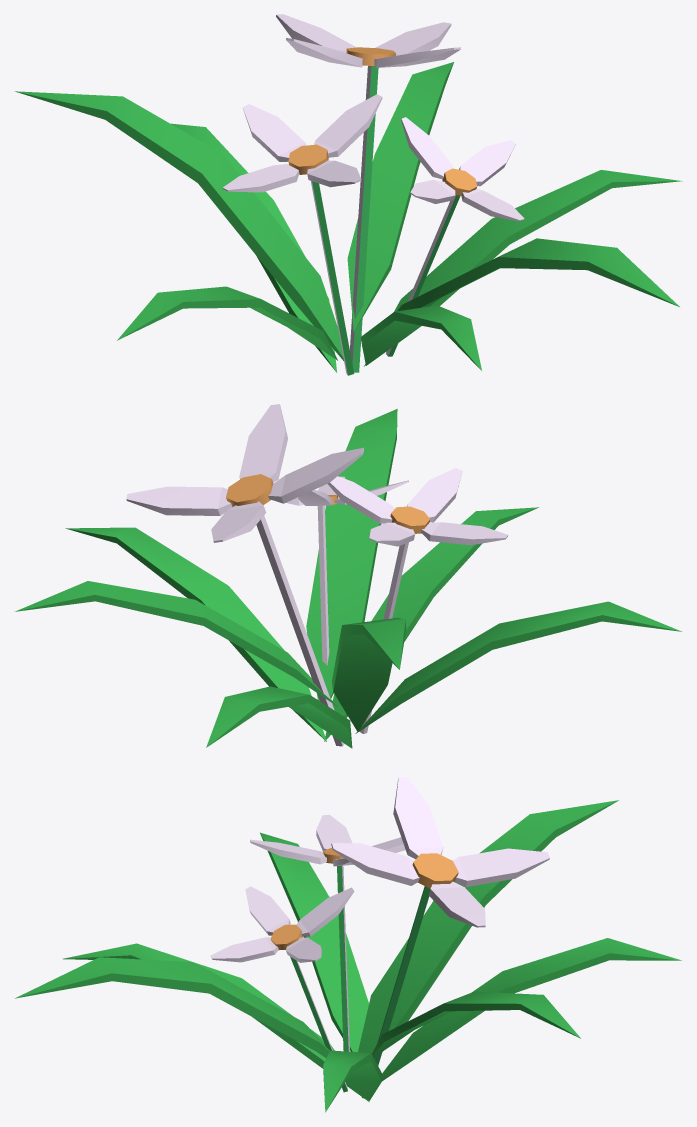
The model's file is hua03.FBX.
3 views of the same model, one above another, from view 1: azimuth 30°, elevation 25°; view 2: azimuth 150°, elevation 25°; view 3: azimuth 270°, elevation 25° (orthographic). The views are drawn at different scales.
Visible parts, largest first — view 1: hua03; view 2: hua03; view 3: hua03.
Boxes of the visible parts, bbox=[...] form: hua03: bbox=[15, 14, 682, 375]; hua03: bbox=[14, 404, 682, 748]; hua03: bbox=[15, 777, 681, 1112].
Bounding box in the file's own units: 63.5 × 33.36 × 66.97.
